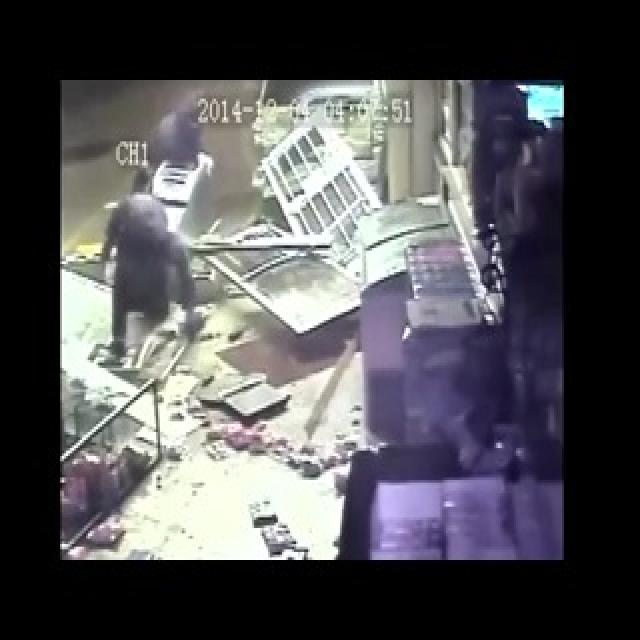thief: (110, 107, 207, 375)
